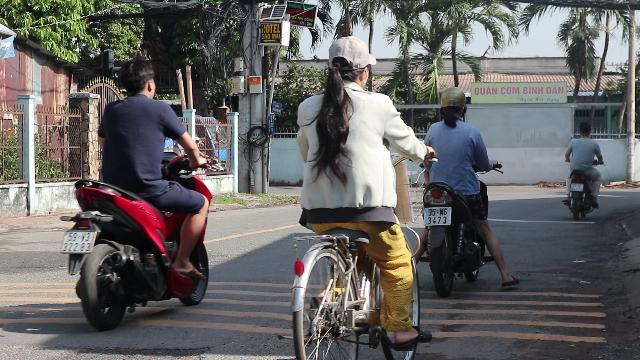helmet: (325, 36, 377, 86), (438, 86, 467, 120)
licenseplate: (62, 231, 94, 251), (424, 207, 451, 224)
motorcyclist: (58, 57, 214, 328), (418, 86, 508, 290)
nohelmet: (114, 56, 158, 100)
